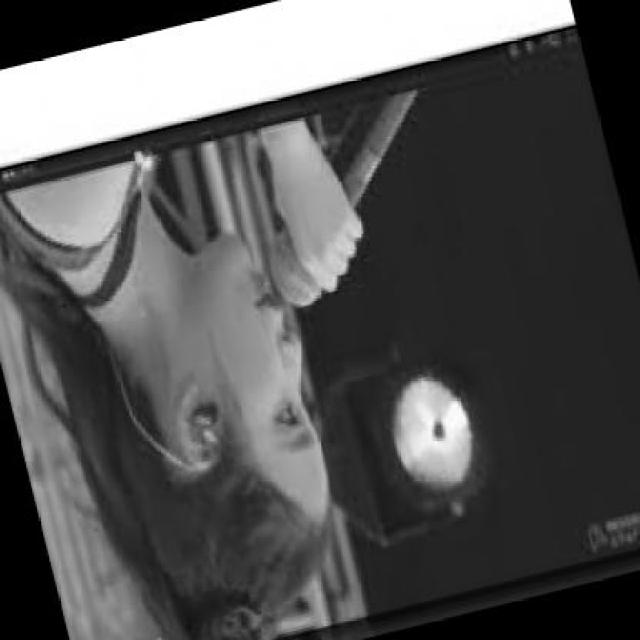earphone: (166, 398, 227, 468)
